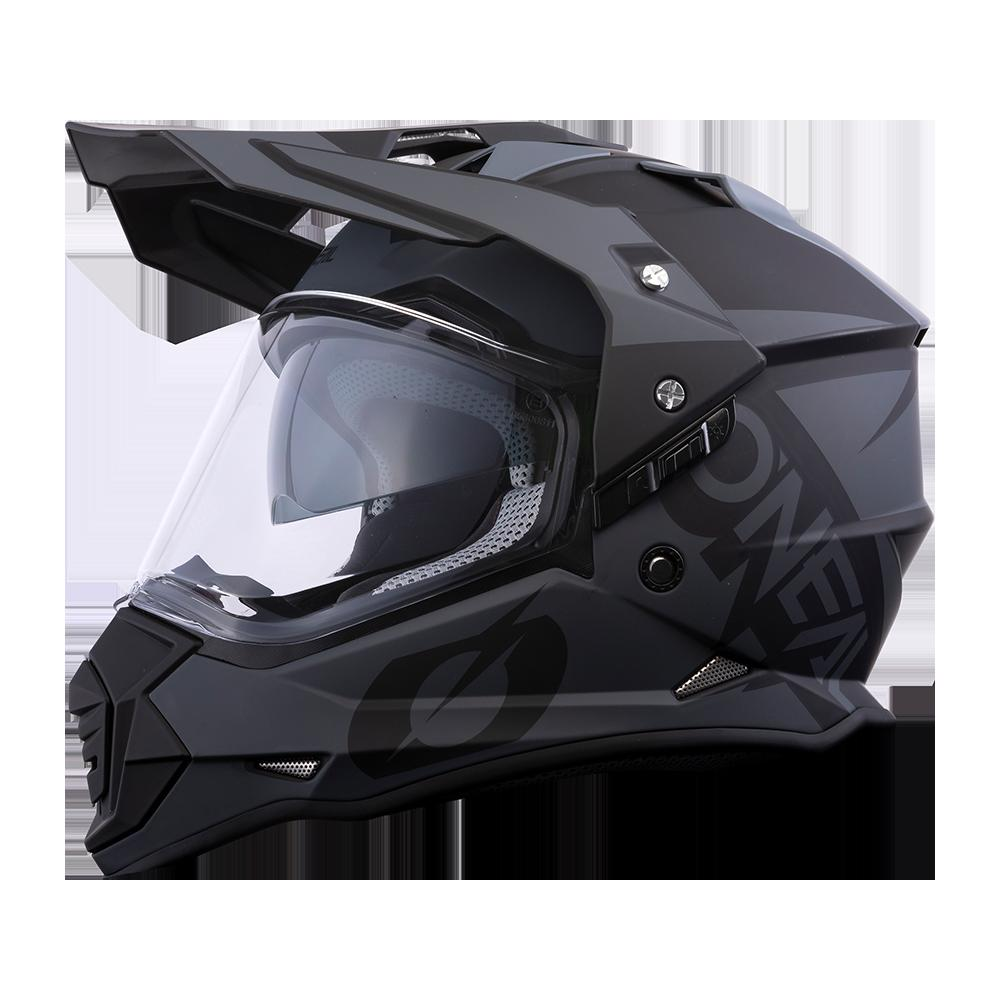helmet: (38, 54, 945, 899)
